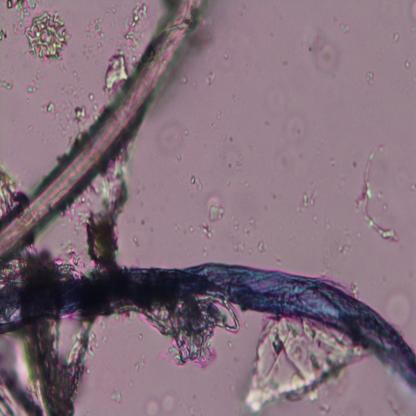Background material: (244, 316, 342, 416), (0, 313, 95, 416), (126, 305, 234, 374), (67, 180, 135, 280), (350, 138, 406, 246), (21, 11, 75, 69), (81, 4, 119, 62), (307, 30, 340, 76), (374, 286, 413, 324), (100, 49, 131, 94), (0, 172, 27, 219), (123, 6, 148, 50), (62, 99, 92, 134), (278, 113, 313, 142), (144, 388, 176, 416), (159, 117, 181, 152), (263, 86, 290, 111), (24, 65, 42, 101), (7, 12, 30, 39), (205, 201, 228, 226), (188, 219, 213, 238), (6, 0, 43, 12), (100, 387, 125, 404), (298, 193, 315, 216), (227, 237, 248, 254), (278, 149, 293, 172), (199, 68, 216, 88), (188, 173, 204, 194), (86, 332, 100, 352), (337, 240, 353, 257), (58, 88, 78, 100), (0, 77, 14, 91), (229, 213, 239, 232), (336, 20, 351, 32), (129, 235, 142, 248), (44, 102, 58, 113), (409, 1, 416, 22), (236, 150, 241, 175), (365, 75, 375, 87), (258, 240, 266, 254), (391, 32, 400, 44), (0, 24, 7, 39), (99, 318, 107, 331), (99, 334, 108, 345), (404, 58, 411, 70), (221, 50, 228, 61), (72, 71, 80, 80), (329, 156, 337, 165), (216, 110, 222, 121), (181, 75, 188, 83), (176, 153, 183, 161), (183, 128, 190, 136), (282, 58, 288, 66), (228, 134, 234, 142), (228, 161, 233, 170), (88, 94, 94, 101), (272, 193, 278, 200), (250, 220, 256, 226), (140, 219, 145, 226), (244, 182, 250, 187)
Cotton: (0, 257, 416, 386)
